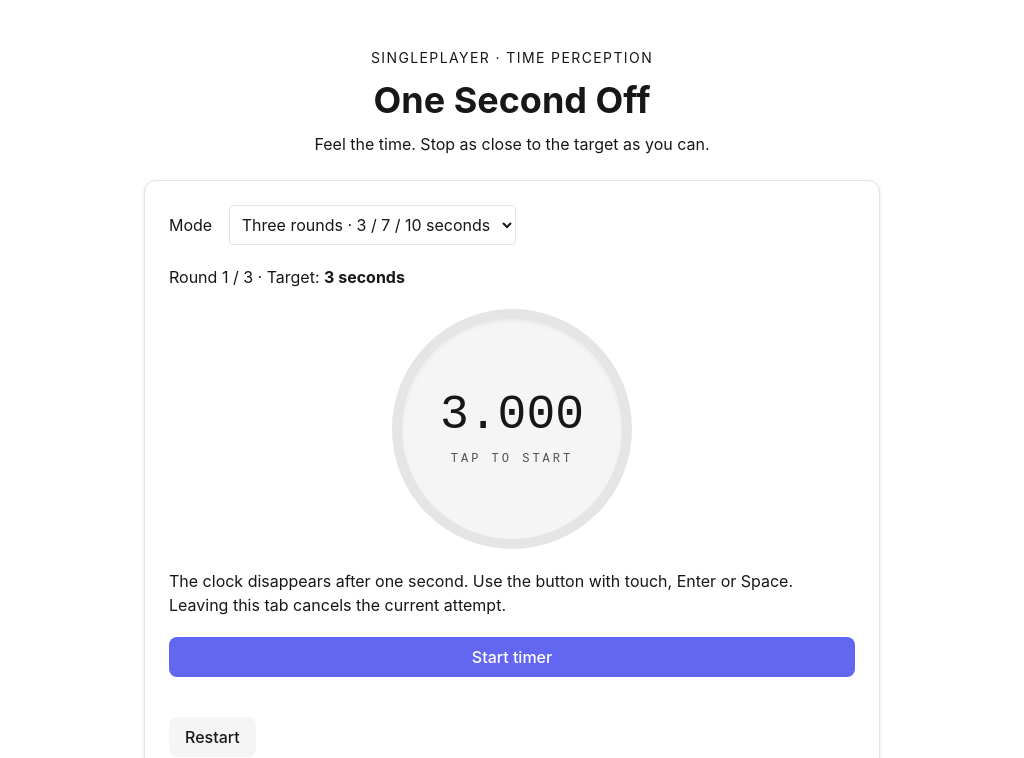
shows the measured time on the large pad after a round instead of the target
This screenshot has width=1024, height=758.
Step 1. Click the button "Start timer" → click(512, 657), box left=169, top=637, right=855, bottom=677
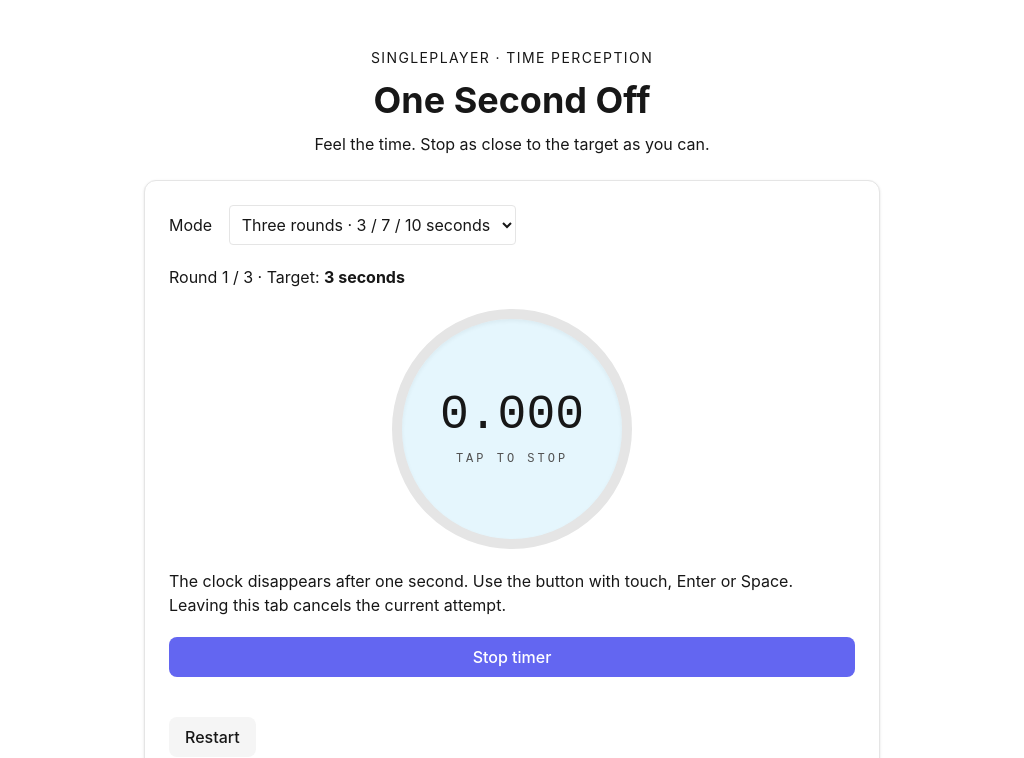
Step 2. Click the button "Stop timer" → click(512, 657), box left=169, top=637, right=855, bottom=677
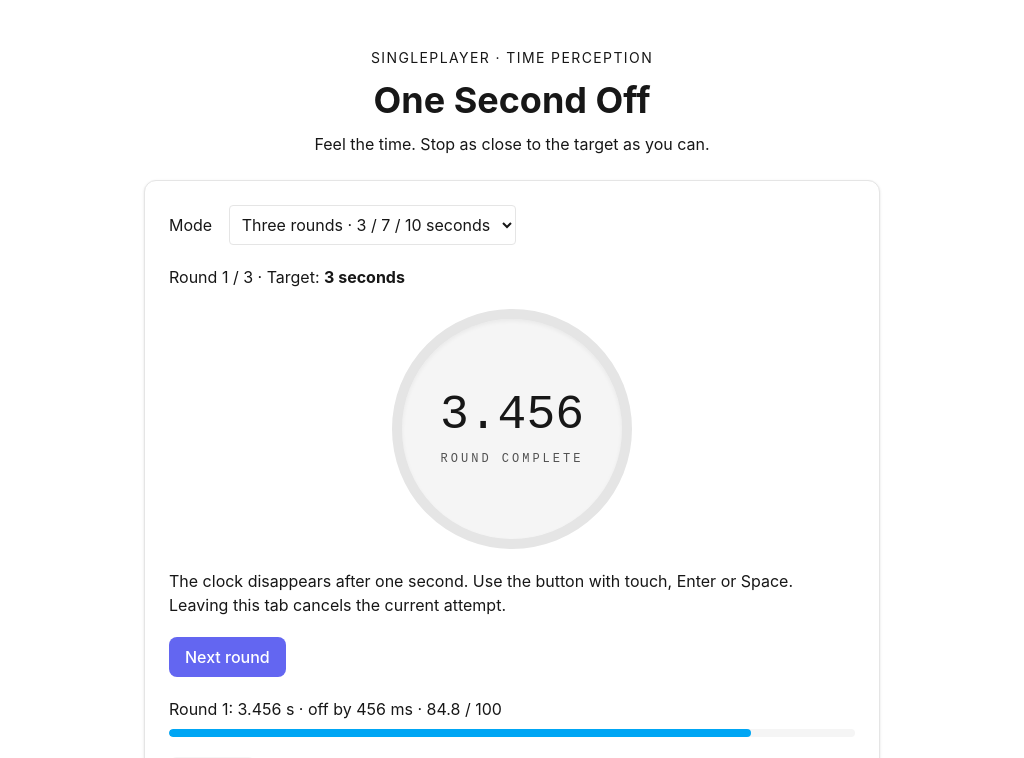
expect the button with aria-label "Round result: 3.456 seconds" shows "3.456": met, box left=392, top=309, right=632, bottom=549
expect the button with aria-label "Round result: 3.456 seconds" is disabled: met, box left=392, top=309, right=632, bottom=549
Step 3. Click the button "Next round" → click(227, 657), box left=169, top=637, right=286, bottom=677
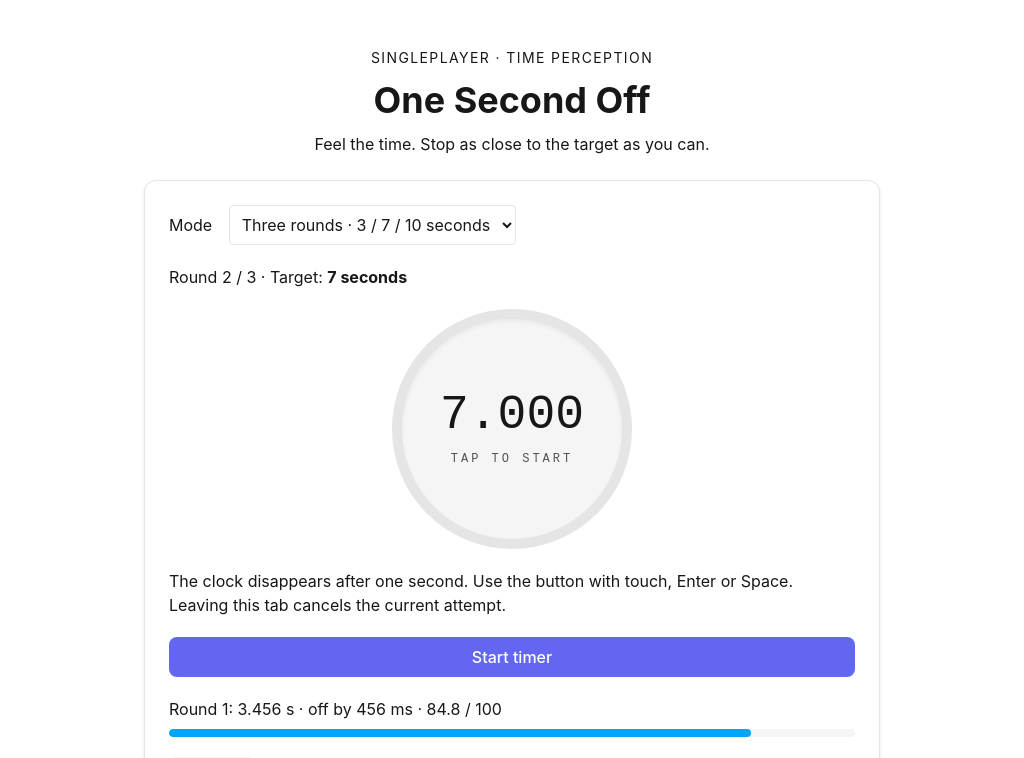
expect the button with aria-label "Timer pad — start" shows "7.000": met, box left=392, top=309, right=632, bottom=549
